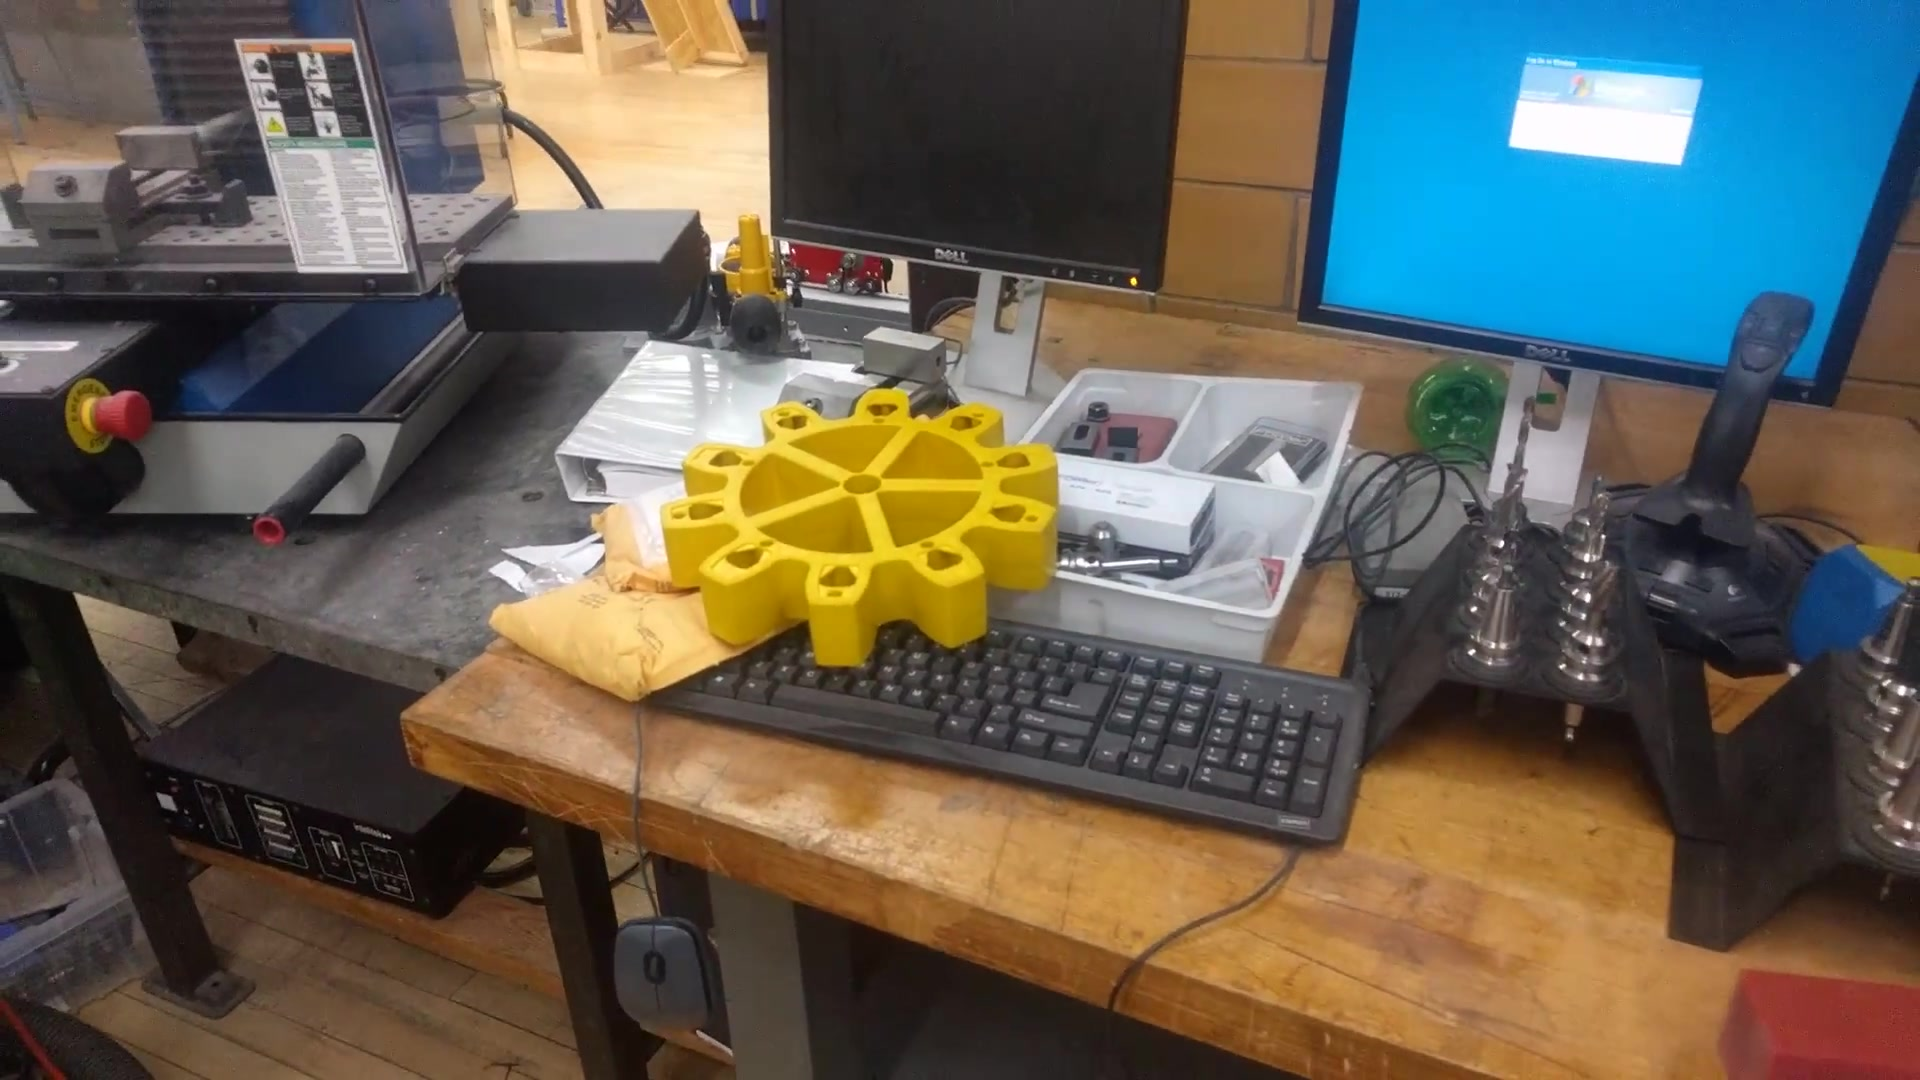gear: (644, 385, 1072, 673)
